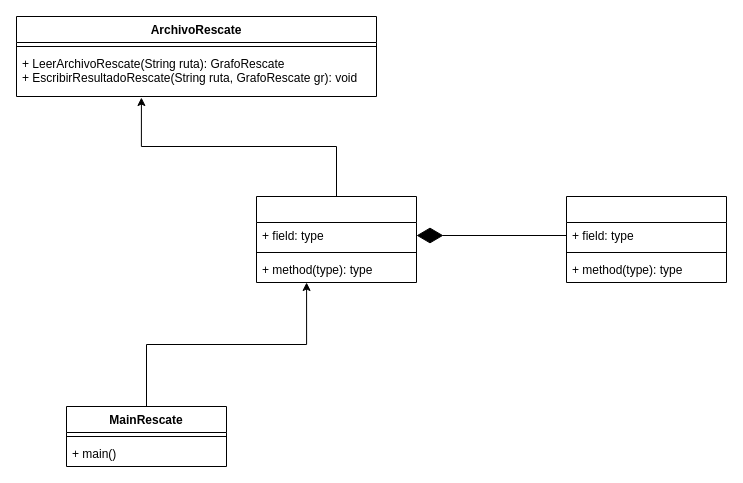
This 743x483 diagram has some shape labels left out. The box of each missing label's shape, as (x1, y1, x2, y2) in pixels:
GrafoRescate: (566, 196, 726, 282)
Rescate: (256, 196, 416, 282)
